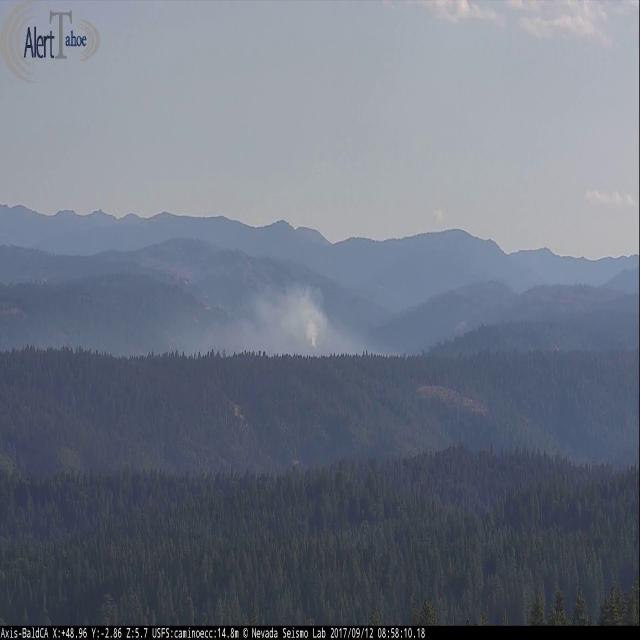smoke: (259, 278, 336, 353)
